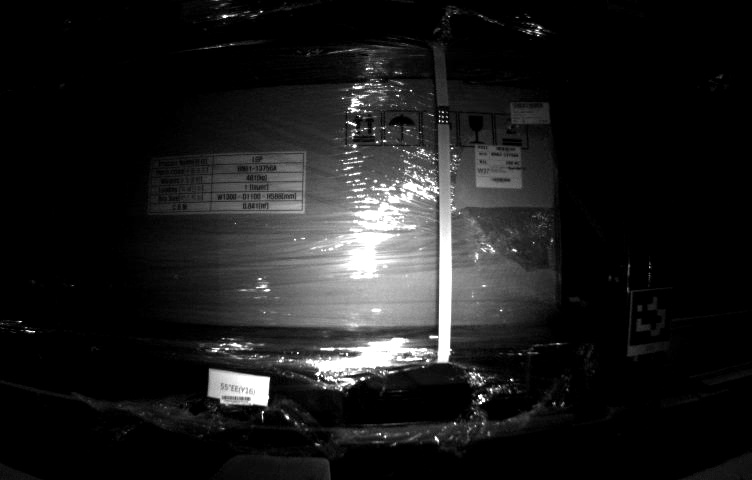True Barcode: (473, 142, 523, 190)
